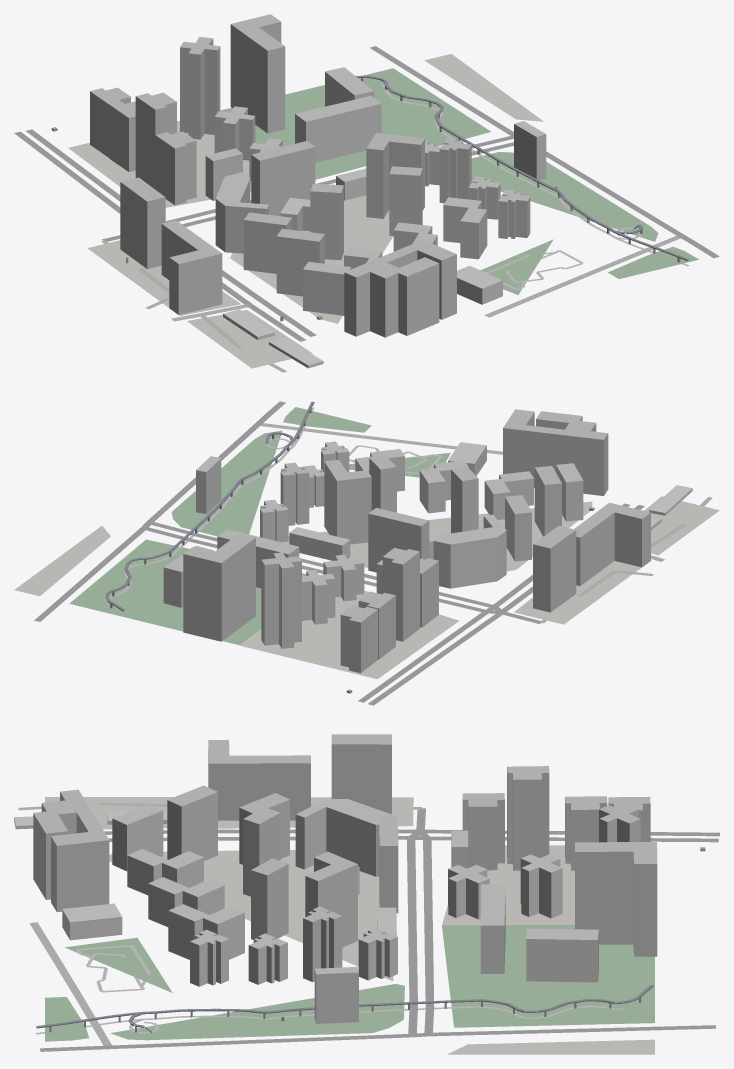
3 renders of one model, top to bottom at view 1: azimuth 30°, elevation 25°; view 2: azimuth 150°, elevation 25°; view 3: azimuth 270°, elevation 25°, orthographic. The views are drawn at different scales.
Size of the model in its own units: 519 by 86.71 by 579.
